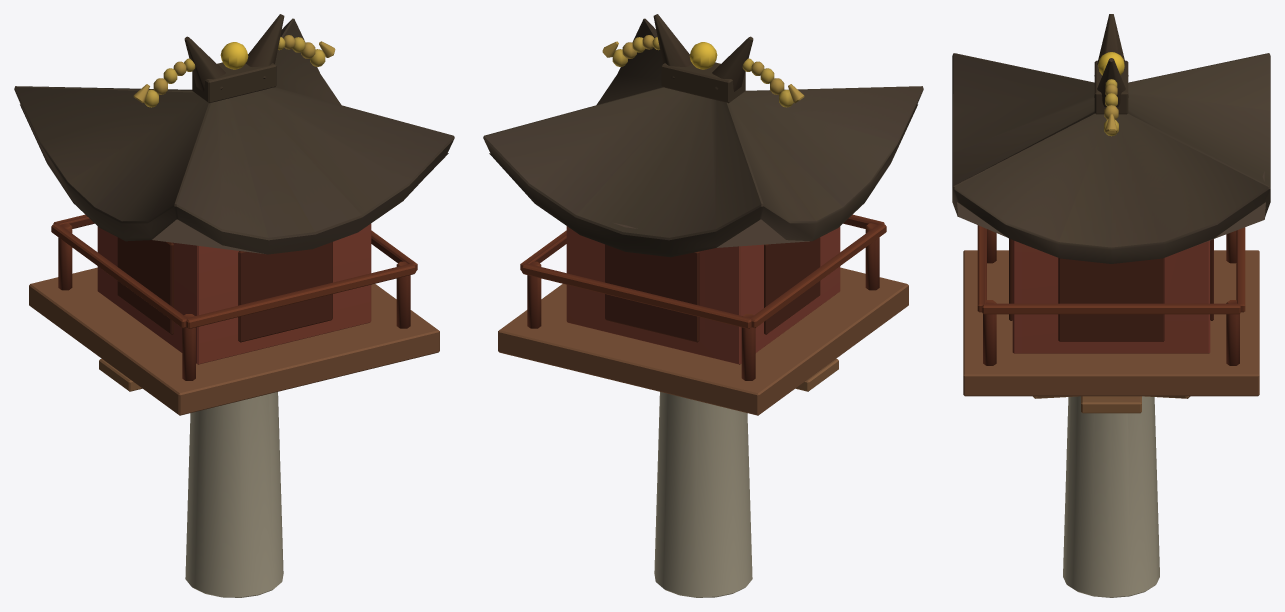
File: lm-onepillar.glb
3 views of the same model, side by side, from view 1: azimuth 30°, elevation 25°; view 2: azimuth 150°, elevation 25°; view 3: azimuth 270°, elevation 25° (orthographic).
Size of the model in its own units: 2.09 by 3.94 by 2.09.
